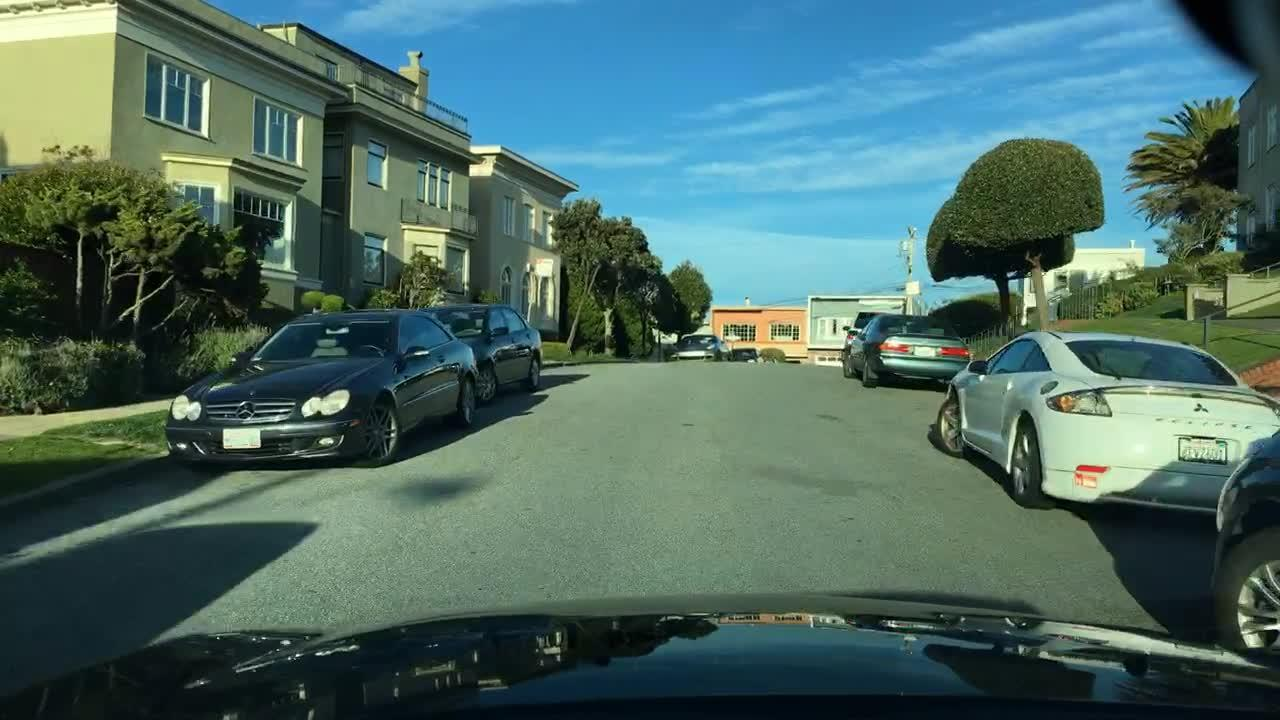Mercedes: (231, 399, 259, 424)
Mitsubishi: (1190, 400, 1215, 419)
